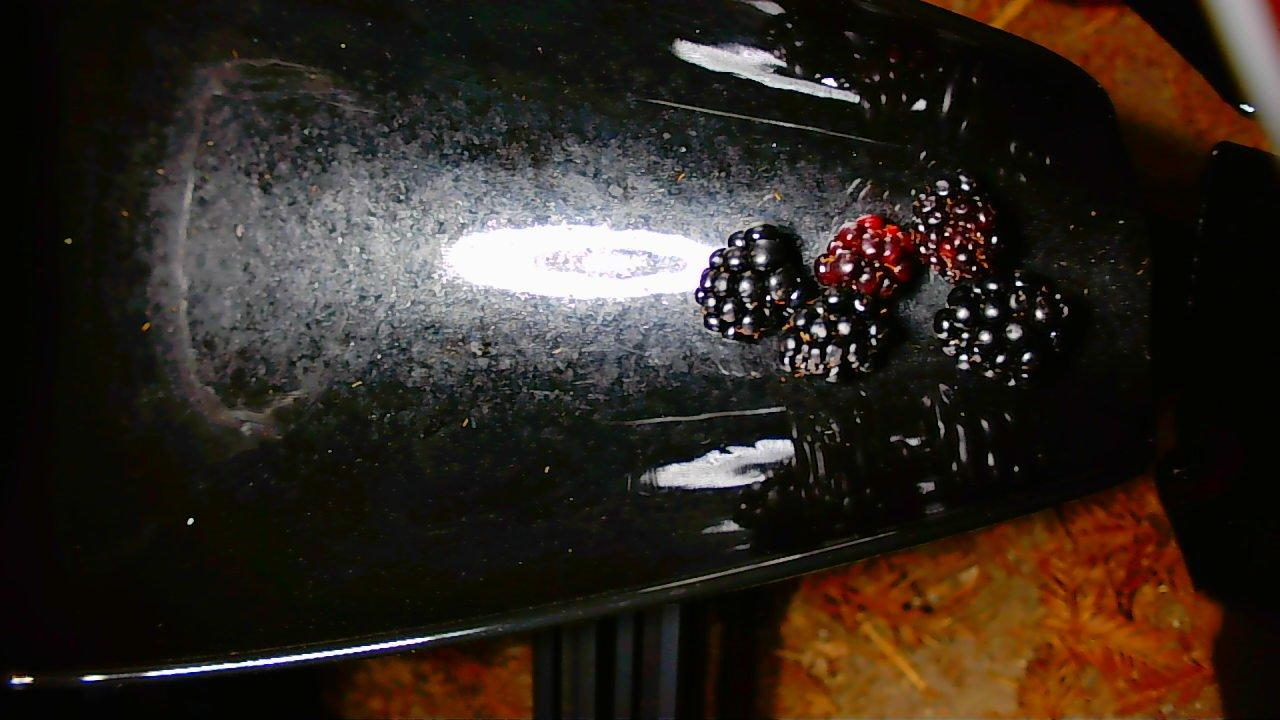berry: (934, 273, 1070, 385), (695, 223, 807, 341), (779, 288, 888, 381), (913, 172, 1003, 282), (814, 215, 915, 297)
